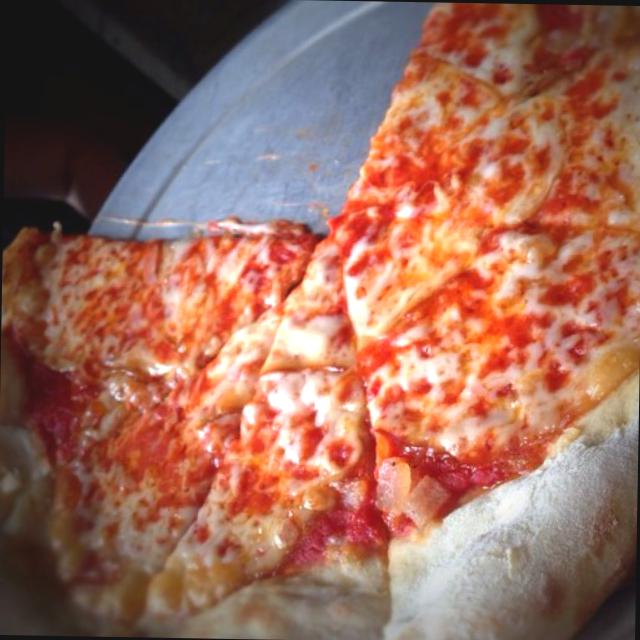pizza: (0, 2, 640, 640)
